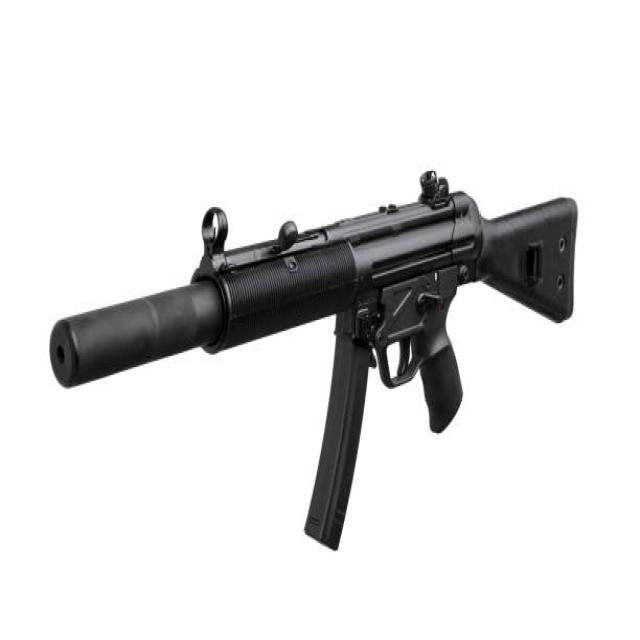rifle: (46, 164, 588, 555)
